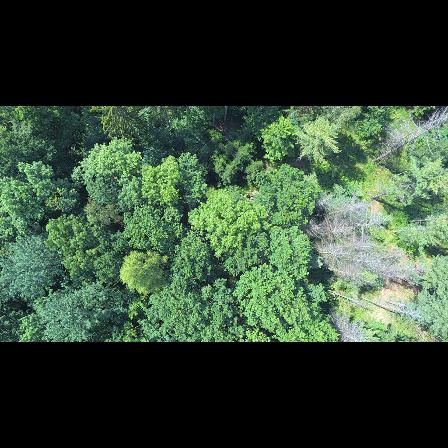Dead: (371, 110, 448, 165), (322, 312, 369, 342), (364, 296, 419, 318), (371, 261, 429, 281), (341, 212, 392, 234), (321, 197, 366, 220), (322, 264, 366, 287), (313, 219, 351, 240), (336, 253, 385, 268), (315, 247, 353, 262)
